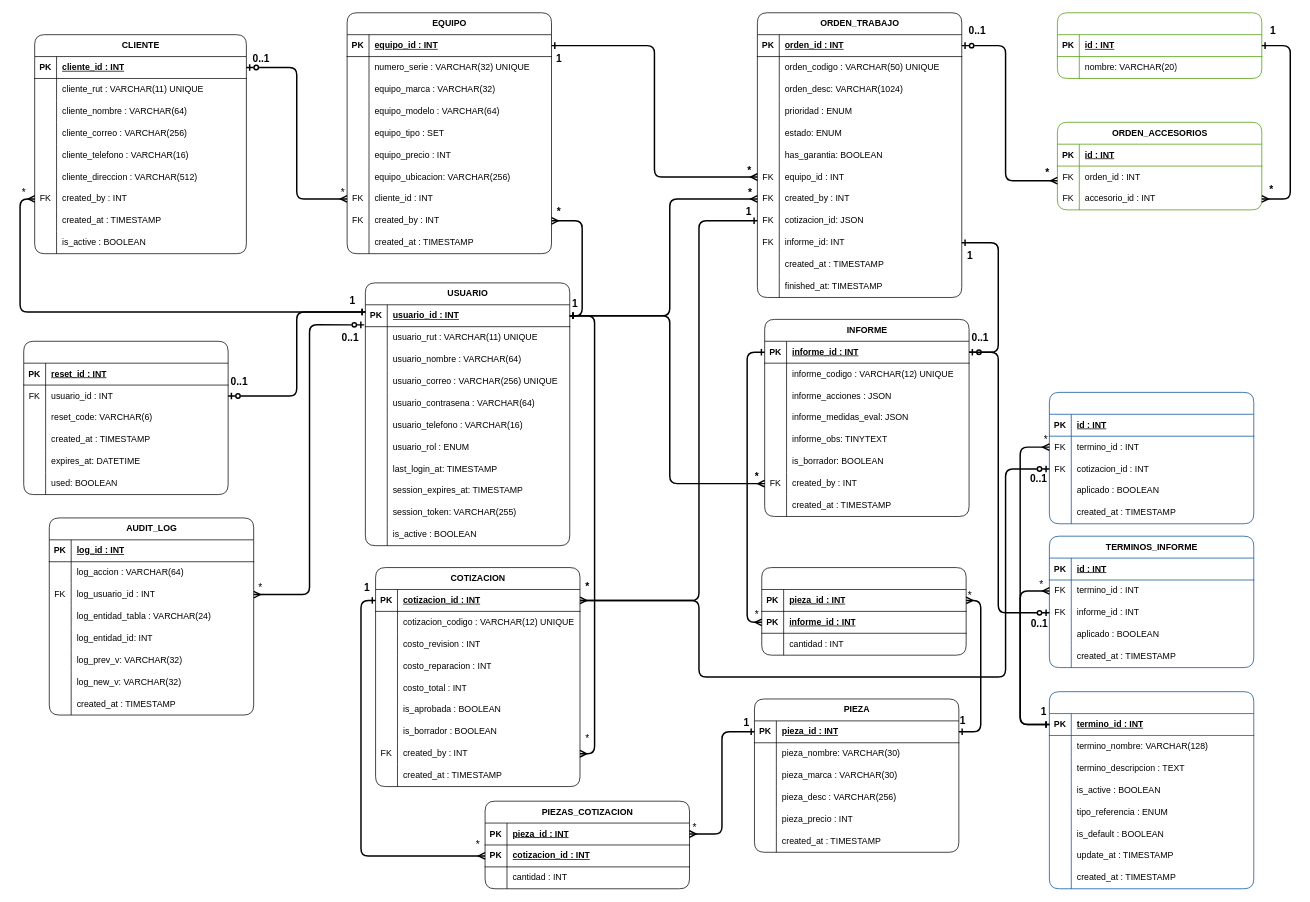
The diagram is 1310 pixels wide and 902 high, and some of its shapes have lost their labels. Here are the shapes that lost their labels. From the top down, the box of each, then its label:
(1057, 12, 1262, 78): TIPO_ACCESORIO
(23, 341, 228, 495): PASSWORD_RESET
(1049, 392, 1254, 524): TERMINOS_COTIZACION
(761, 567, 966, 655): PIEZAS_INFORME
(1049, 691, 1254, 889): TERMINOS_CONDICIONES
